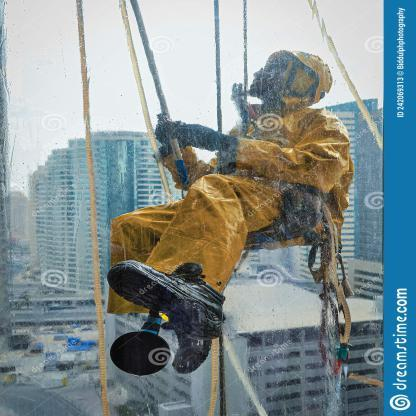bota: (100, 259, 228, 344)
